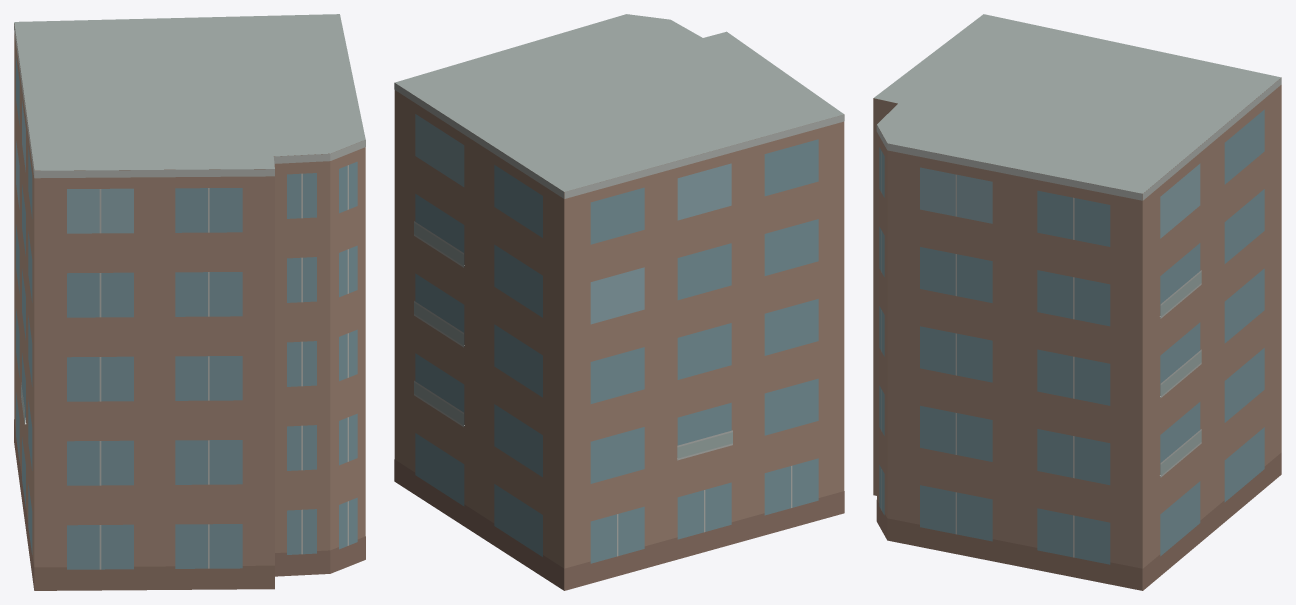
Rendered from survey-upis-32885198.glb.
3 views of the same model, side by side, from view 1: azimuth 30°, elevation 25°; view 2: azimuth 150°, elevation 25°; view 3: azimuth 270°, elevation 25° (orthographic). The views are drawn at different scales.
Visible parts, largest first — view 1: survey-upis-32885198.tmp; view 2: survey-upis-32885198.tmp; view 3: survey-upis-32885198.tmp.
Part boxes in pixels (<box>): survey-upis-32885198.tmp: <box>14,14,365,590</box>; survey-upis-32885198.tmp: <box>394,14,844,590</box>; survey-upis-32885198.tmp: <box>873,14,1281,590</box>.
Size of the model in its own units: 13.36 by 13.75 by 12.82.
